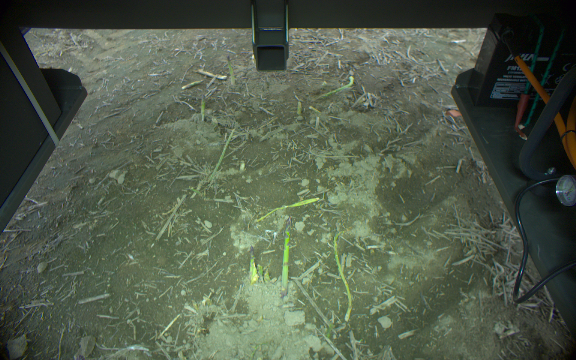aspa: (332, 226, 354, 325), (255, 196, 320, 224), (279, 214, 294, 294), (314, 76, 355, 100), (247, 246, 259, 285), (224, 55, 236, 87), (199, 92, 206, 121), (297, 99, 302, 115)
